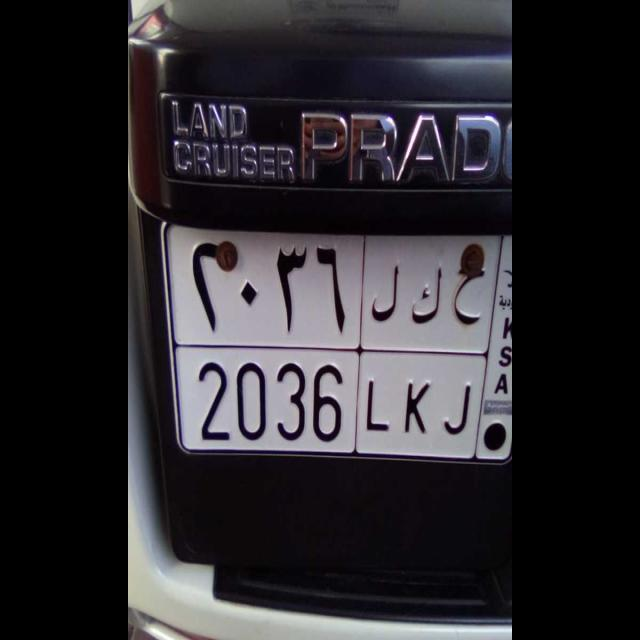license_plate: (179, 340, 478, 466)
